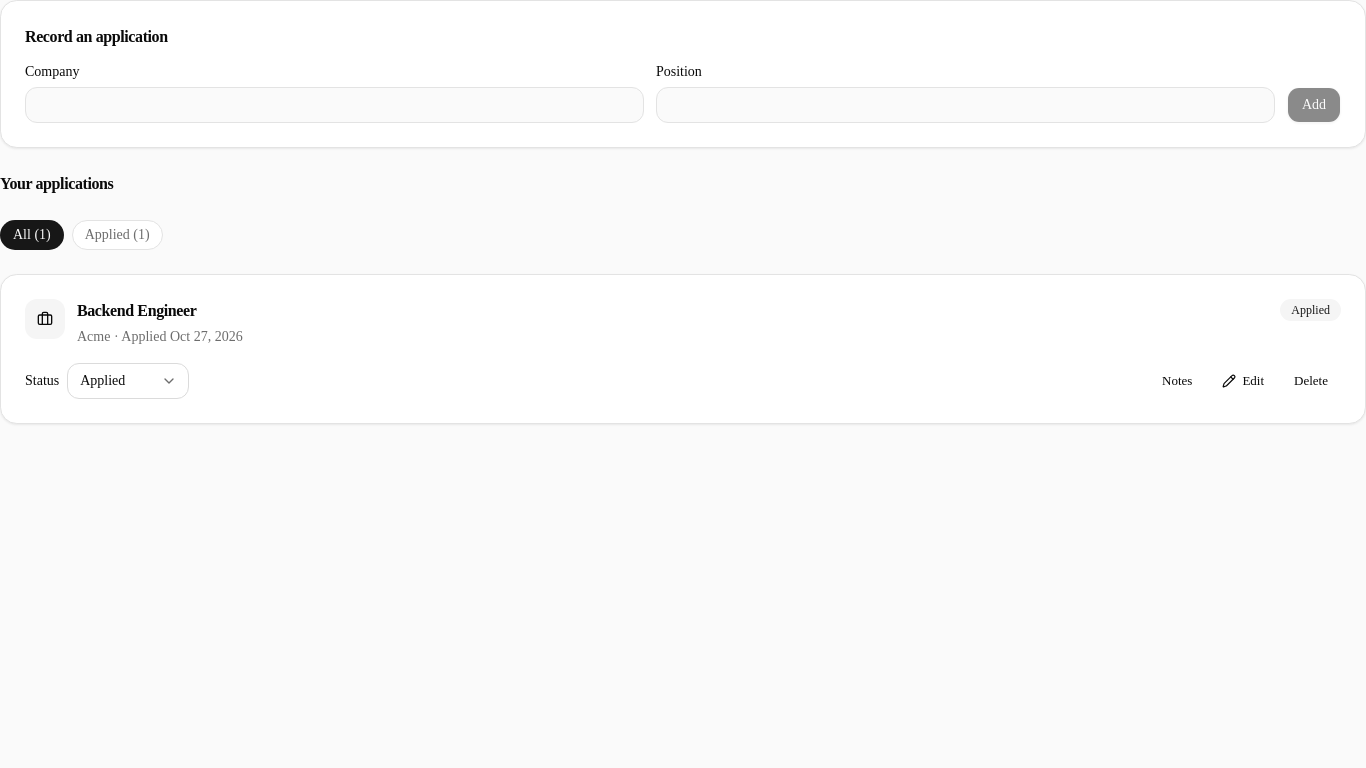
it: the application tracker › forgets one without touching the CV
The image size is (1366, 768).
Behind the confirmation every other deletion has.
Click the button with aria-label "Forget ": (1311,381) [1281,365,1341,397]
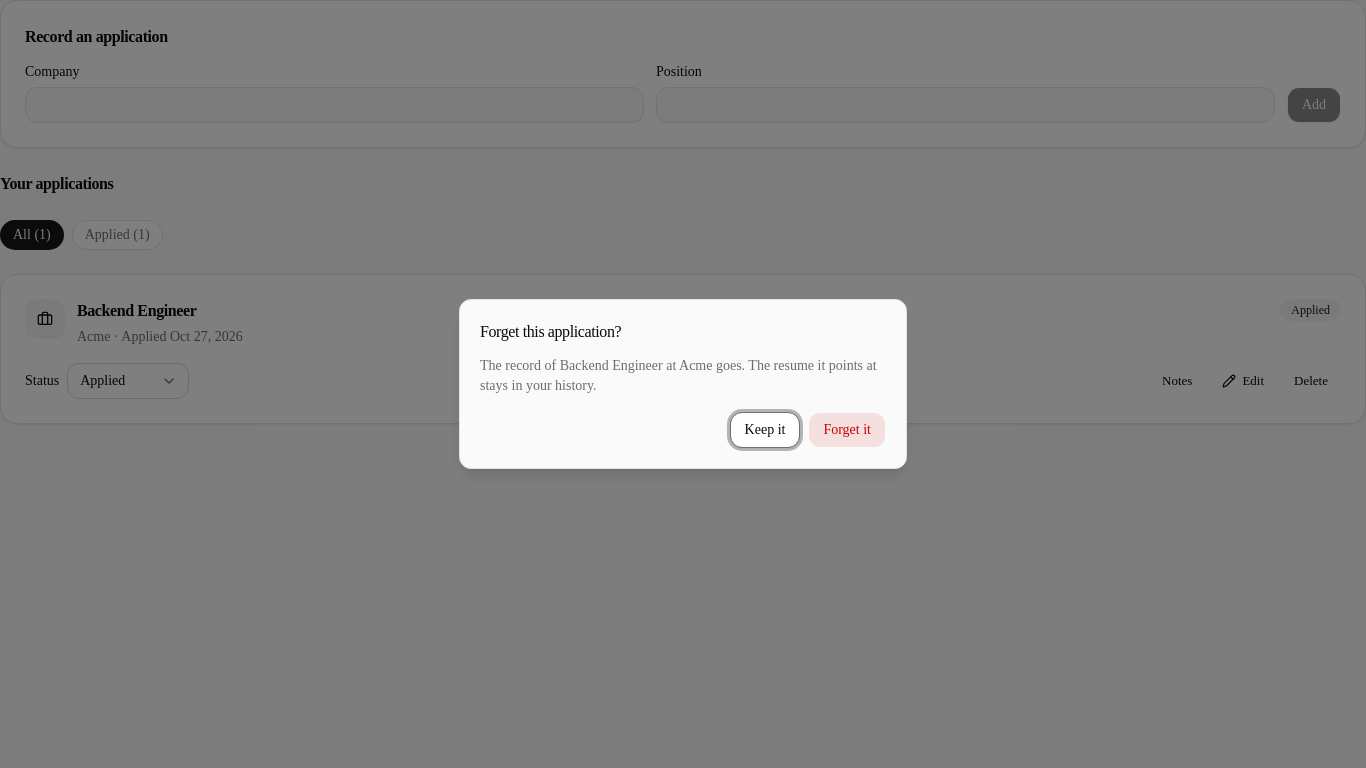
Click the button "Forget it": (847,430) [808,412,886,448]
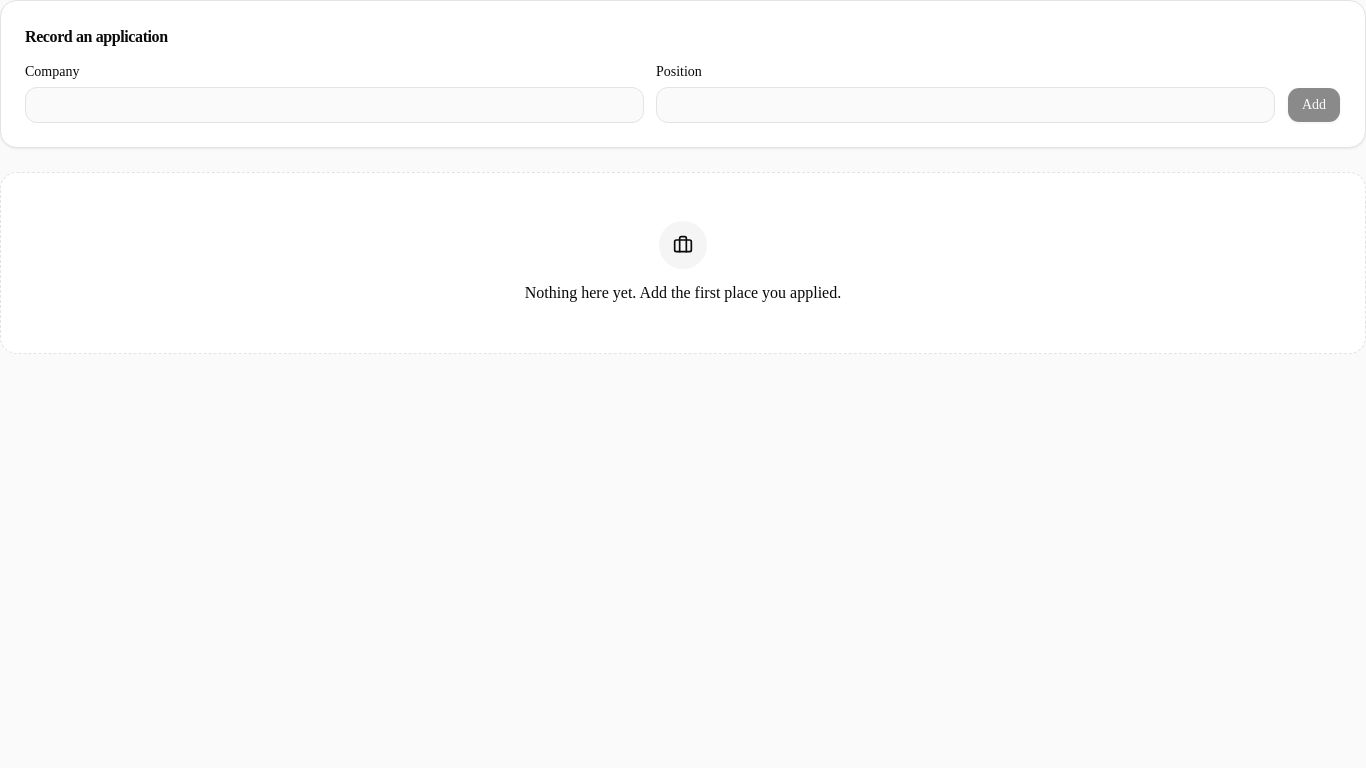
Check: the text "Nothing here yet. Add the first place you applied." is shown, box [525,281,841,305]
